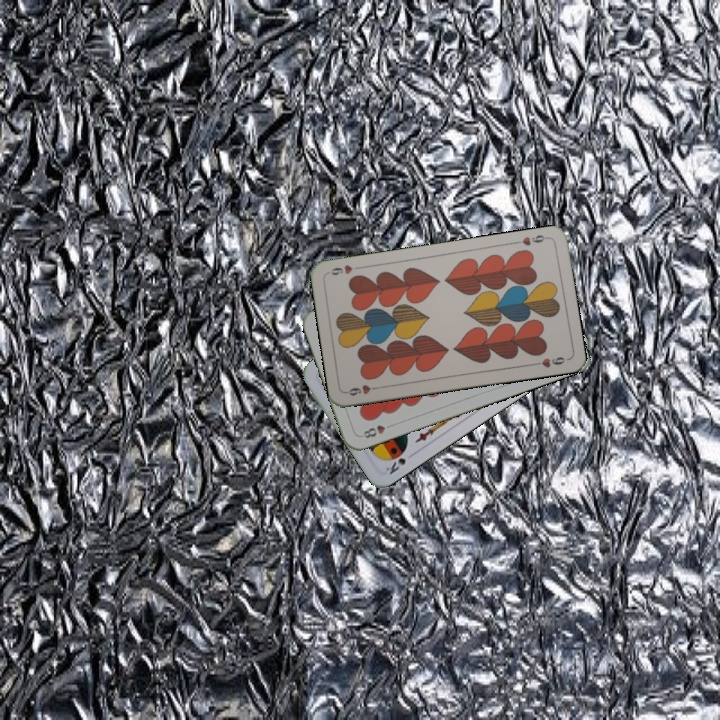H8: (357, 420, 396, 441)
H9: (343, 381, 383, 398), (511, 231, 551, 248)
SK: (382, 454, 408, 477)
